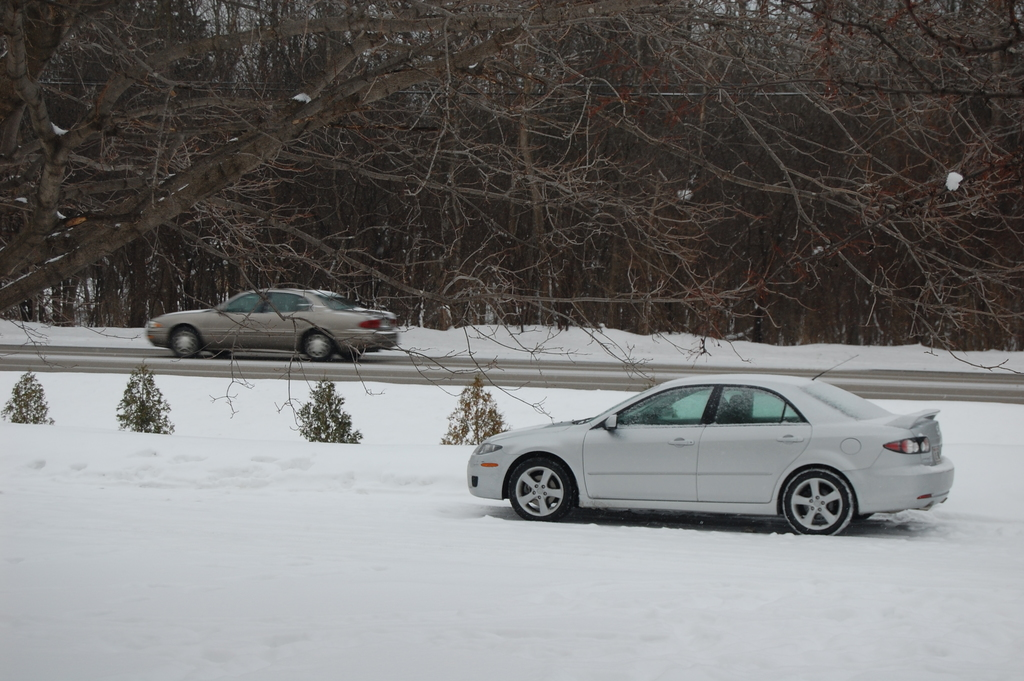Tree: (1, 0, 1023, 443), (446, 373, 509, 448), (299, 370, 360, 441), (117, 363, 176, 434), (0, 370, 60, 432)
